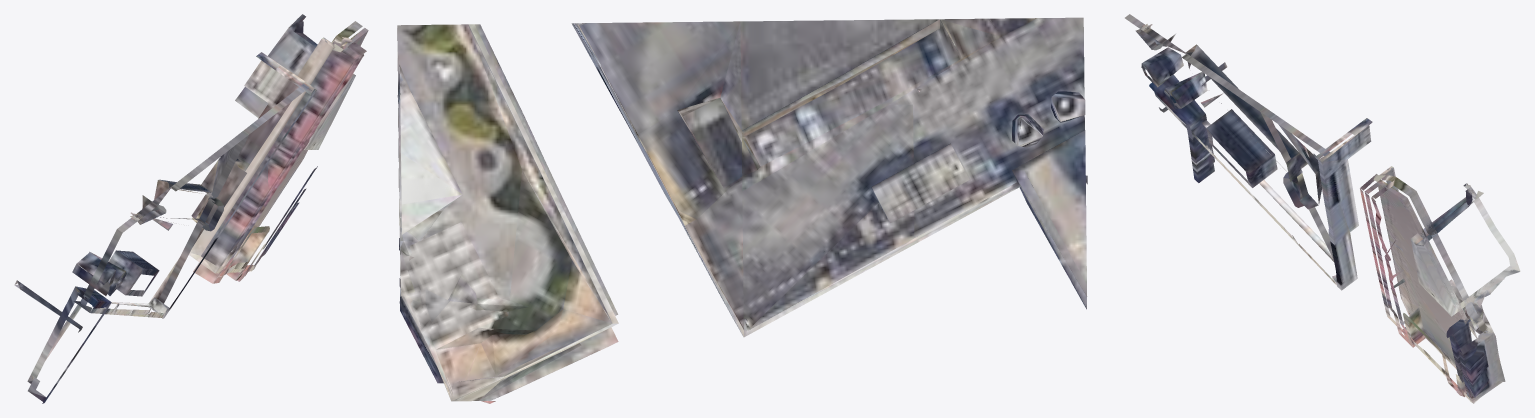
3 renders of one model, left to right at view 1: azimuth 30°, elevation 25°; view 2: azimuth 150°, elevation 25°; view 3: azimuth 270°, elevation 25°, orthographic. The views are drawn at different scales.
Size of the model in its own units: 66.95 by 38.55 by 52.7.
1 material, 1 textured.
